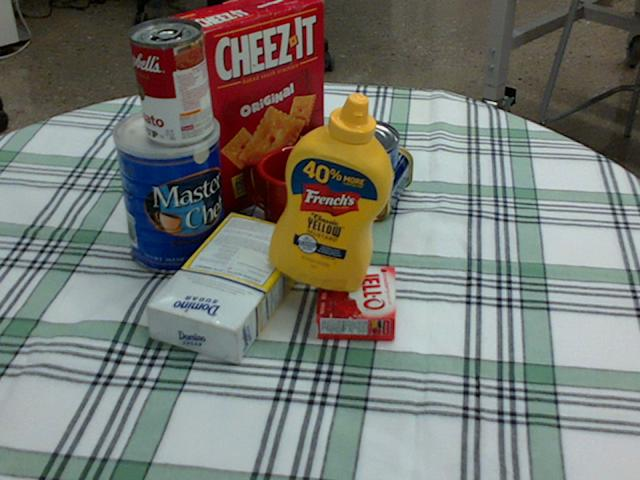cracker_box: (168, 0, 323, 215)
gelatin_box: (315, 264, 394, 339)
master_chef_can: (111, 106, 227, 274)
mug: (244, 143, 343, 245)
mustard_bottle: (268, 92, 393, 291)
potted_meat_can: (305, 133, 410, 218)
sugar_box: (147, 211, 310, 362)
tomato_soup_can: (130, 17, 213, 144)
tuna_fish_can: (321, 119, 398, 179)
